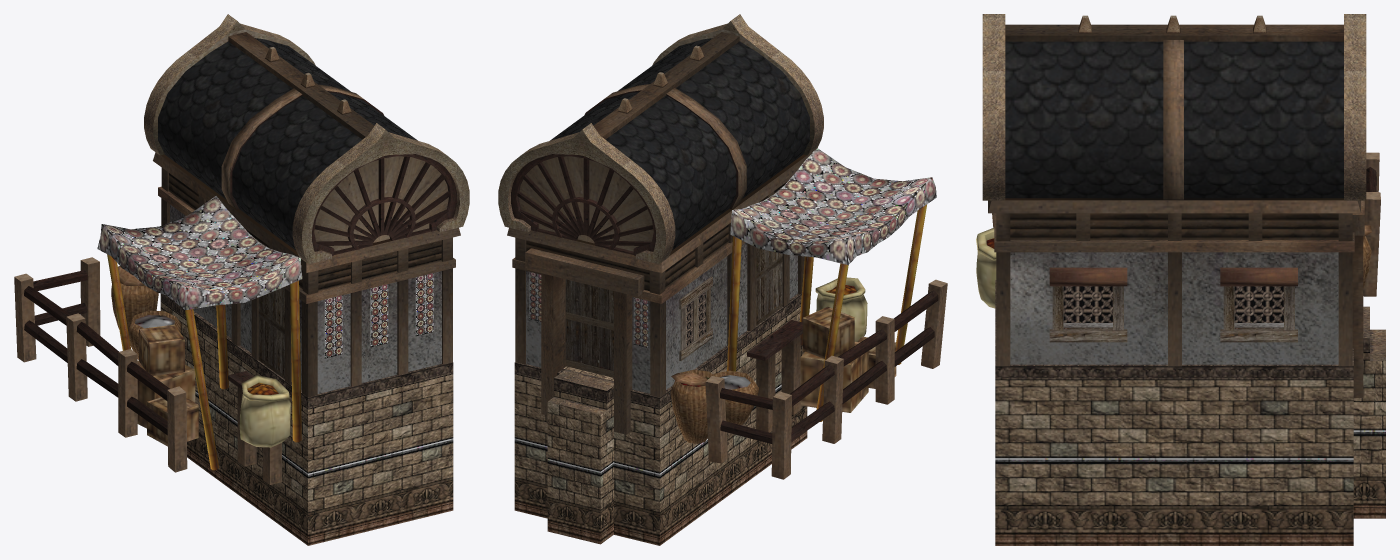
Rendered from maur_house.glb.
3 views of the same model, side by side, from view 1: azimuth 30°, elevation 25°; view 2: azimuth 150°, elevation 25°; view 3: azimuth 270°, elevation 25° (orthographic). The views are drawn at different scales.
Visible parts, largest first — view 1: maur_house_part1, maur_house_part0; view 2: maur_house_part1, maur_house_part0; view 3: maur_house_part1, maur_house_part0.
Boxes of the visible parts, x1,y1,x2,y2 form: maur_house_part1: [14, 32, 460, 484]; maur_house_part0: [144, 14, 469, 545]; maur_house_part1: [507, 32, 947, 479]; maur_house_part0: [498, 14, 823, 545]; maur_house_part1: [976, 24, 1380, 397]; maur_house_part0: [982, 14, 1385, 545].
Bounding box in the file's own units: 2.4 × 3.14 × 2.39.
2 materials, 2 textured.
